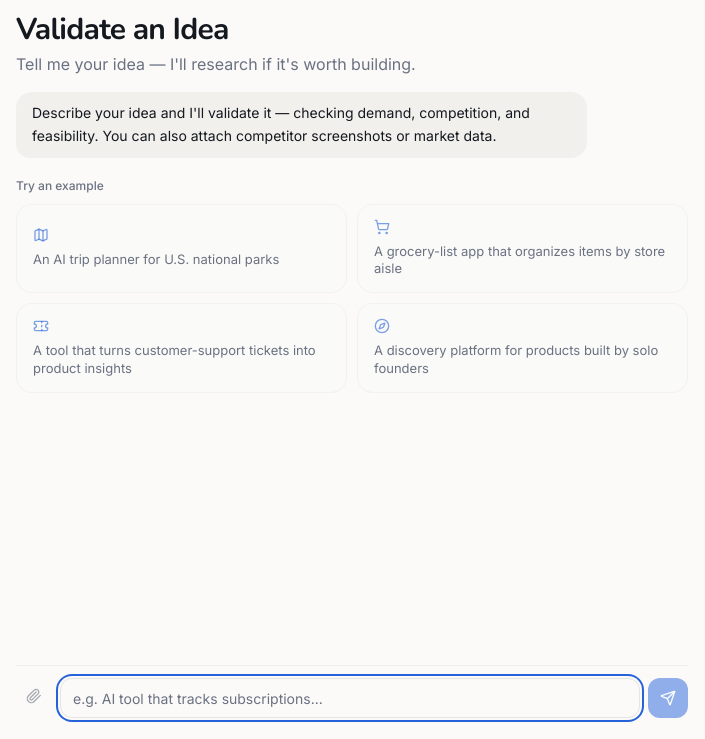
Scenario: ValidateIdea starter chips › hides after typing and restores when cleared
In the field with placeholder "e.g. AI tool that tracks subscriptions...": (350, 698) [60, 678, 640, 718], type "hello"
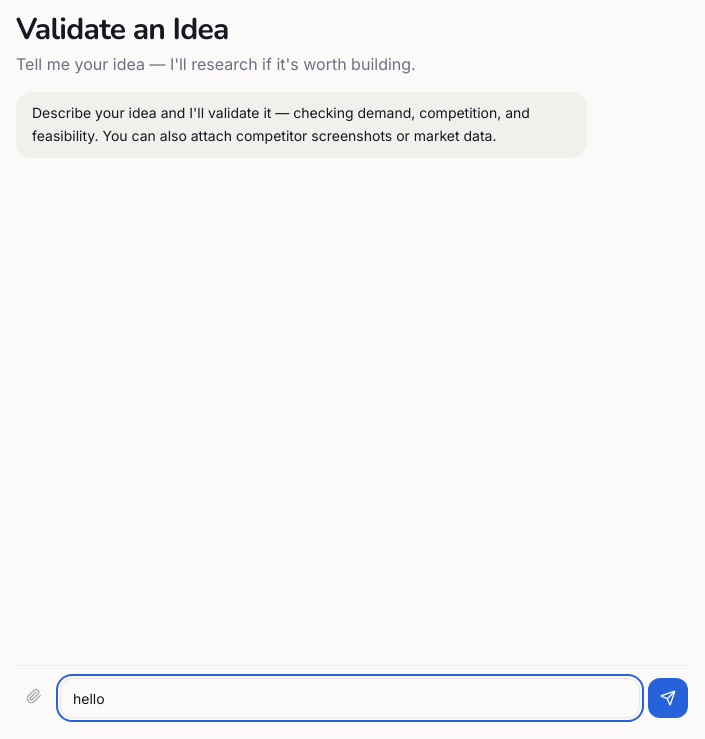
Clear the field with placeholder "e.g. AI tool that tracks subscriptions...": (350, 698) [60, 678, 640, 718]
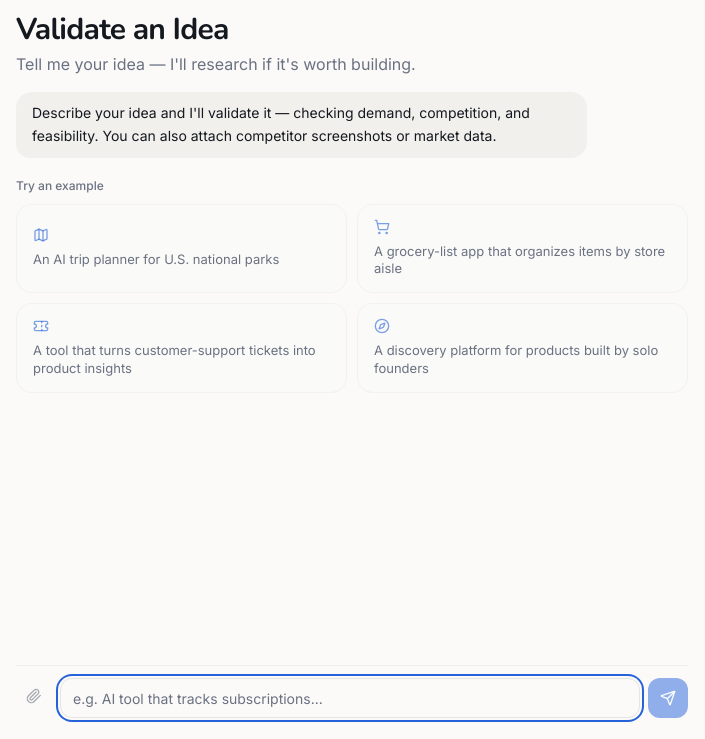
Expected: the element named "validate idea starters" is shown, [16, 204, 688, 393]
